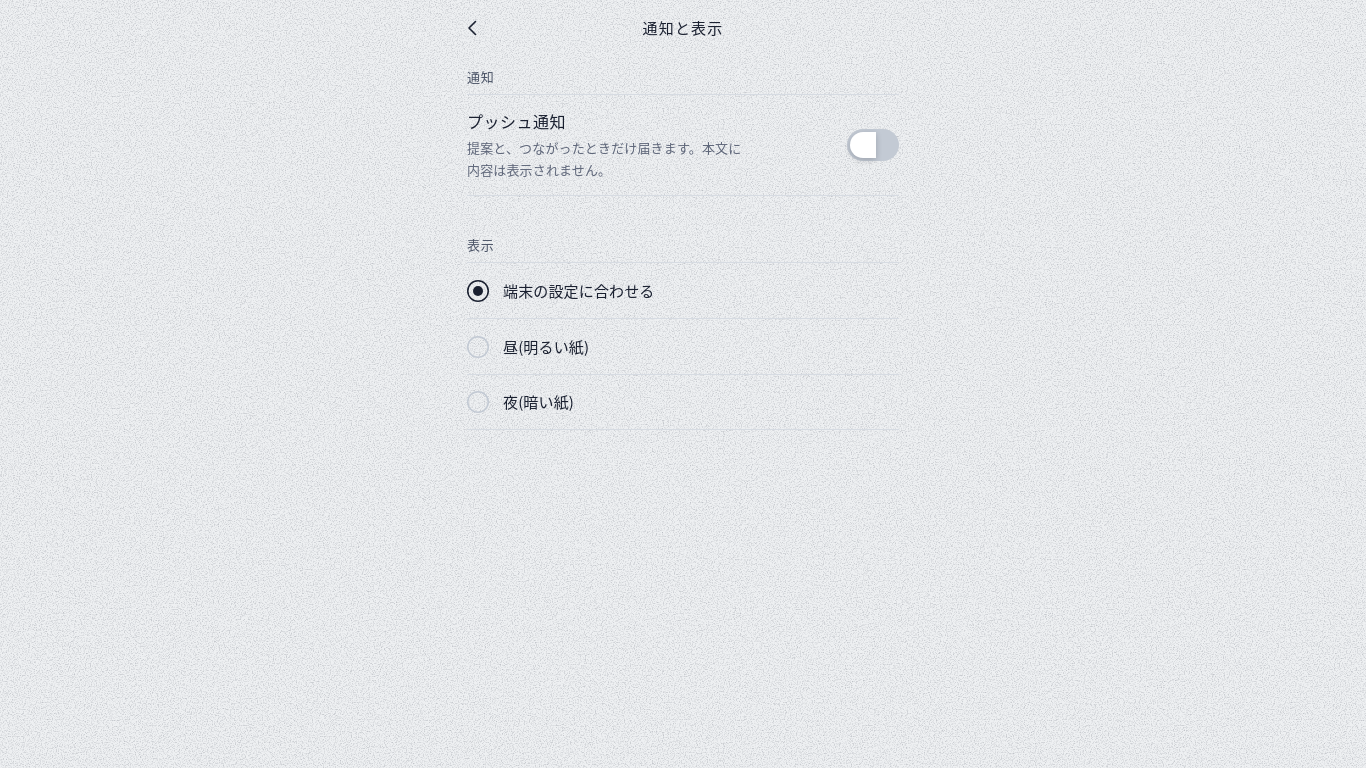
Test: Settings › 有効化の結果がoffならアプリ内のお知らせで届く旨を出す
Click the checkbox named "プッシュ通知".
click(873, 145)  # box [847,129,899,161]
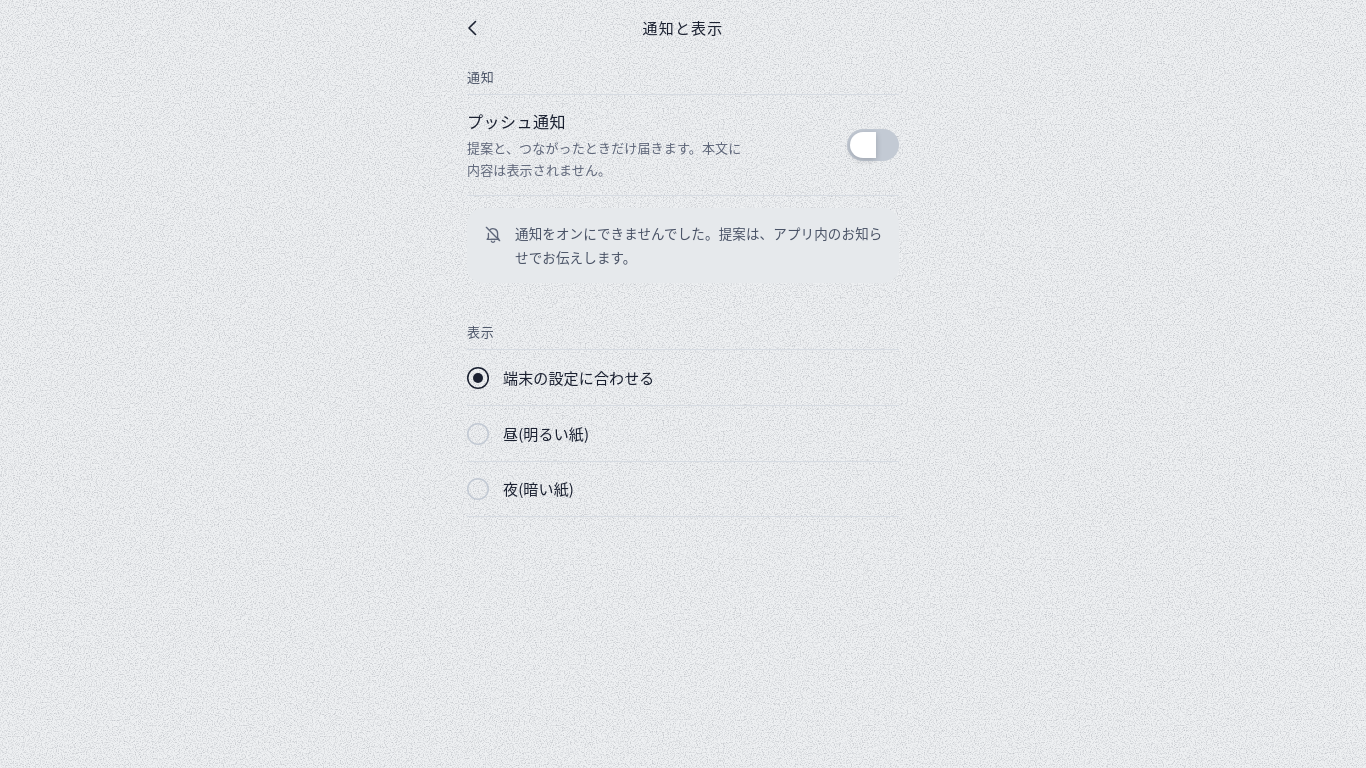
Check: the text "通知をオンにできませんでした。提案は、アプリ内のお知らせでお伝えします。" is shown, box [515,222,883,269]
